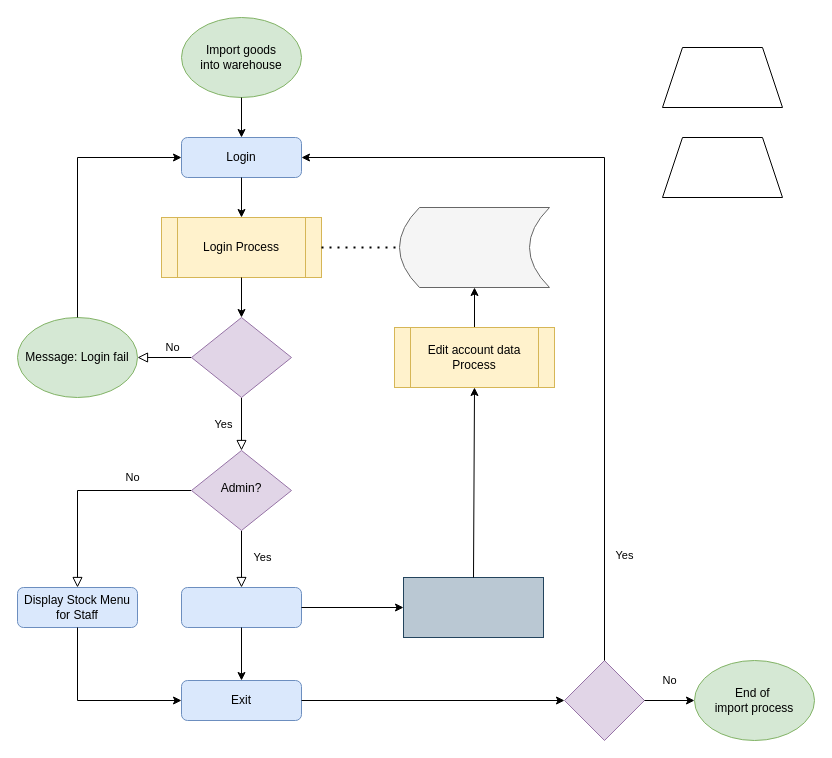
Some shapes in this 832 by 758 pixel diagram are drawn without their labels. The centre of each missing label's shape, as x and y in pixels:
"Account Database" belongs at (x=474, y=247).
"Display Stock Menu for Admin" belongs at (x=241, y=607).
"Edit account information" belongs at (x=473, y=607).
"Login success?" belongs at (x=241, y=357).
"Logout?" belongs at (x=604, y=700).
